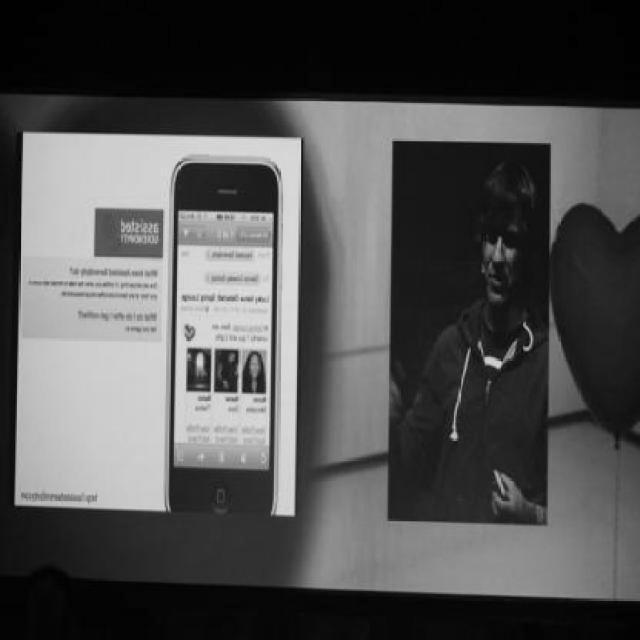fake: (162, 152, 284, 518)
